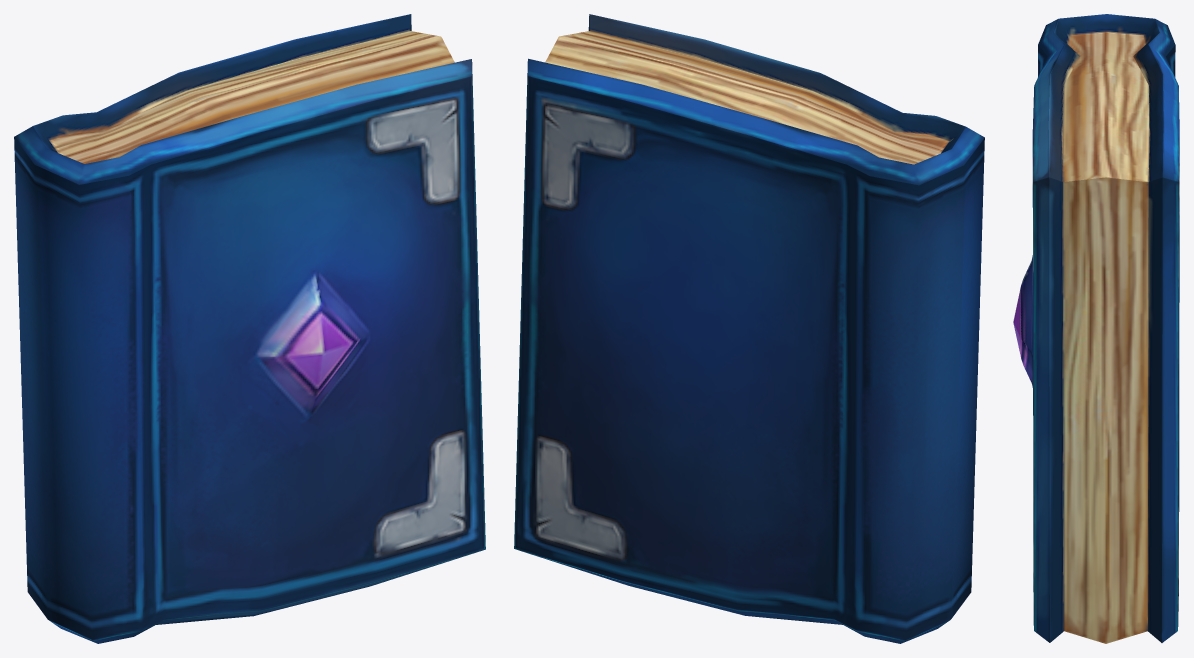
The model's file is SpellBook.fbx.
3 views of the same model, side by side, from view 1: azimuth 30°, elevation 25°; view 2: azimuth 150°, elevation 25°; view 3: azimuth 270°, elevation 25° (orthographic). The views are drawn at different scales.
Visible parts, largest first — view 1: SpellBook; view 2: SpellBook; view 3: SpellBook.
Boxes of the visible parts, left/top/right/bottom form: SpellBook: left=14, top=14, right=485, bottom=643; SpellBook: left=514, top=14, right=984, bottom=643; SpellBook: left=1013, top=14, right=1179, bottom=643.
Bounding box in the file's own units: 31.59 × 36.4 × 11.65.
1 material, 1 textured.
